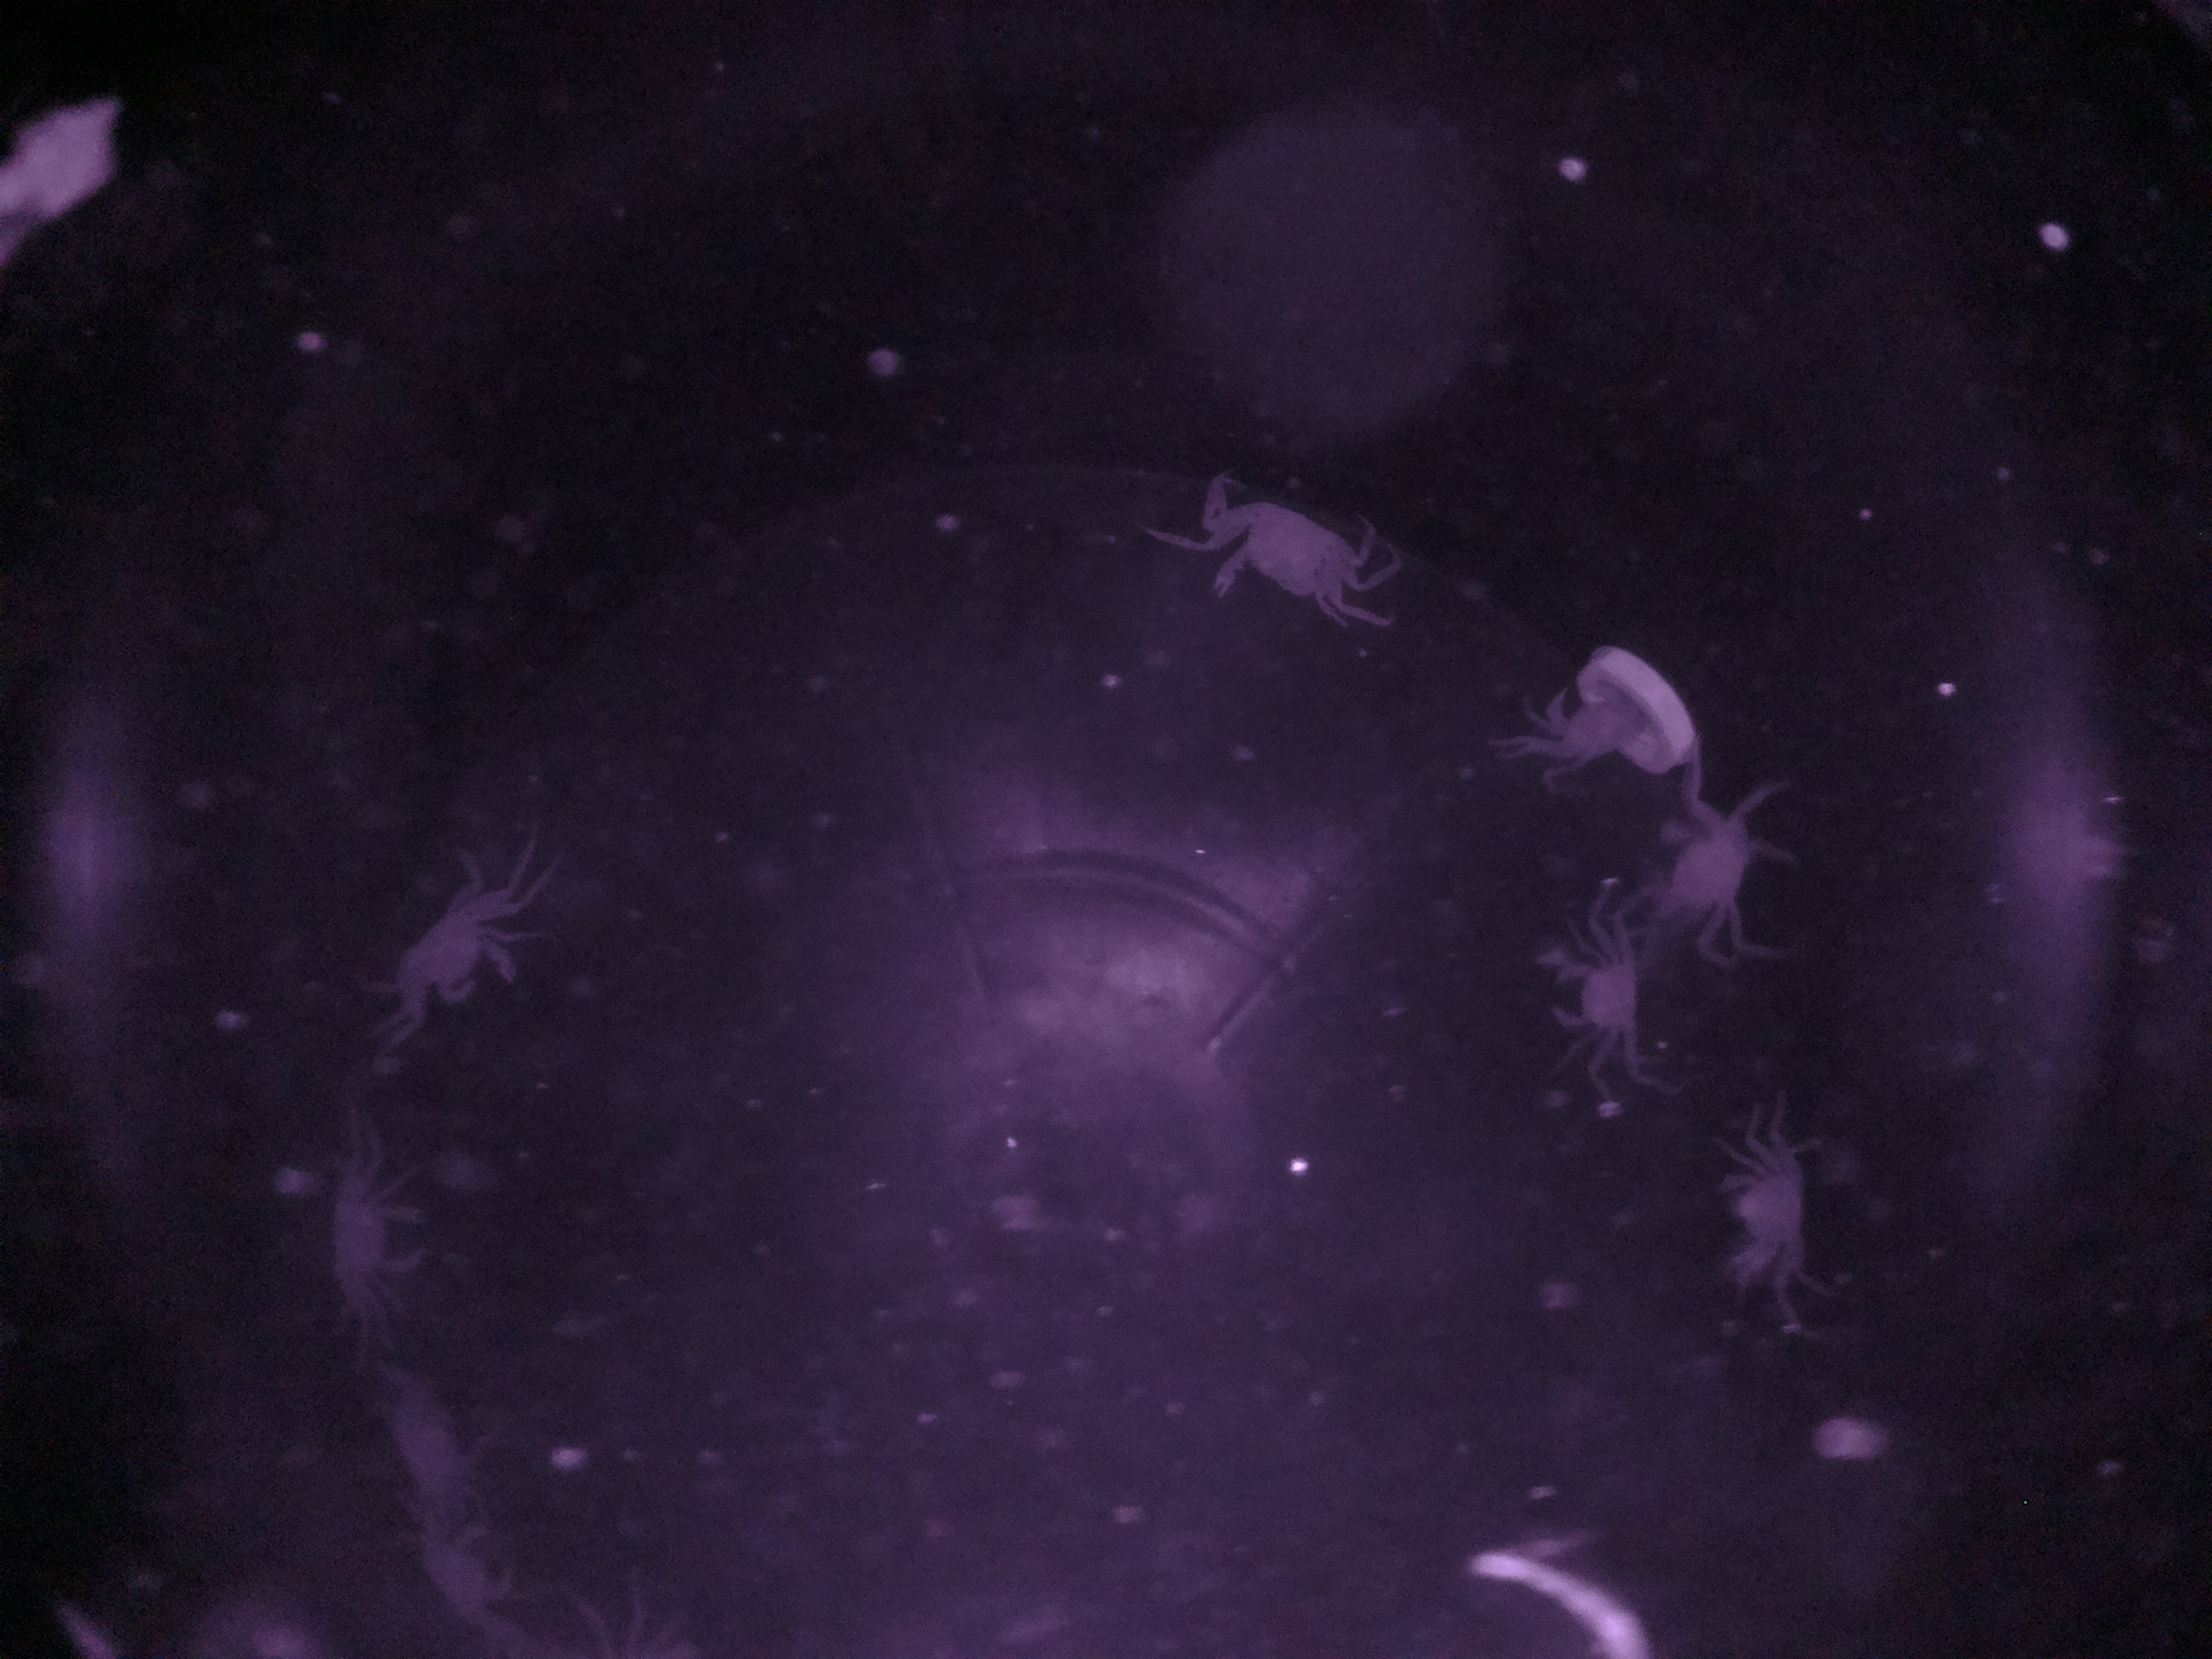Crab: (1172, 457, 1392, 633), (354, 856, 545, 1046), (1514, 904, 1658, 1070)
